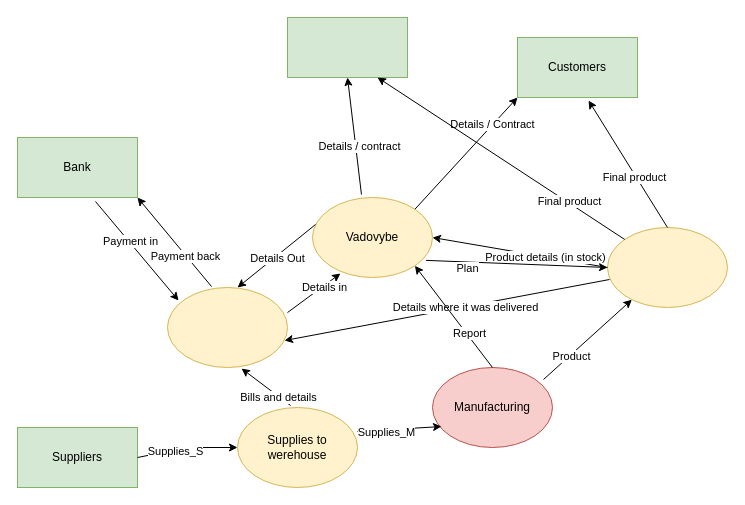
Some shapes in this 745 by 505 pixel diagram are drawn without their labels. The box of each missing label's shape, as (x1, y1, x2, y2) in pixels:
Accounting: (166, 286, 288, 368)
Dealers: (286, 16, 408, 78)
Product werehouse: (606, 226, 728, 308)
